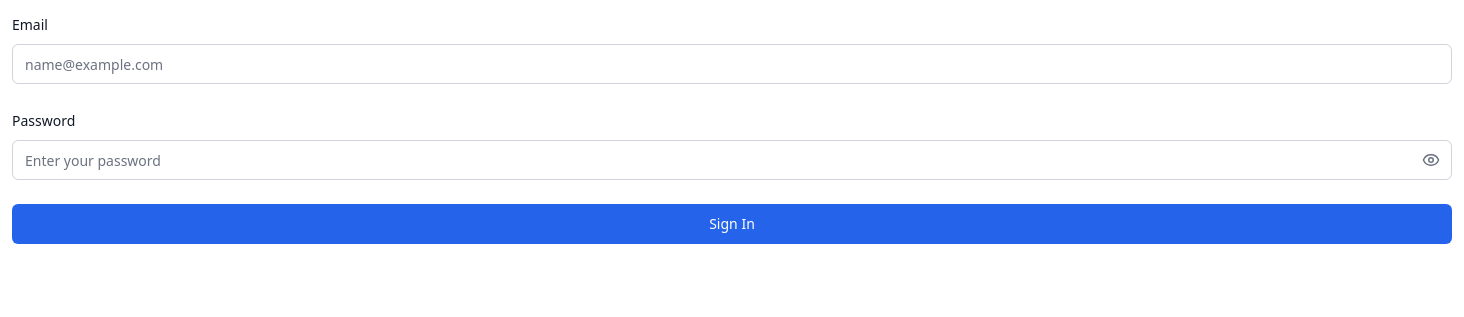
LoginForm › shows validation errors for invalid email
In the field labelled "Email": (732, 64) top-left (12, 44), bottom-right (1452, 84), type "invalid-email"
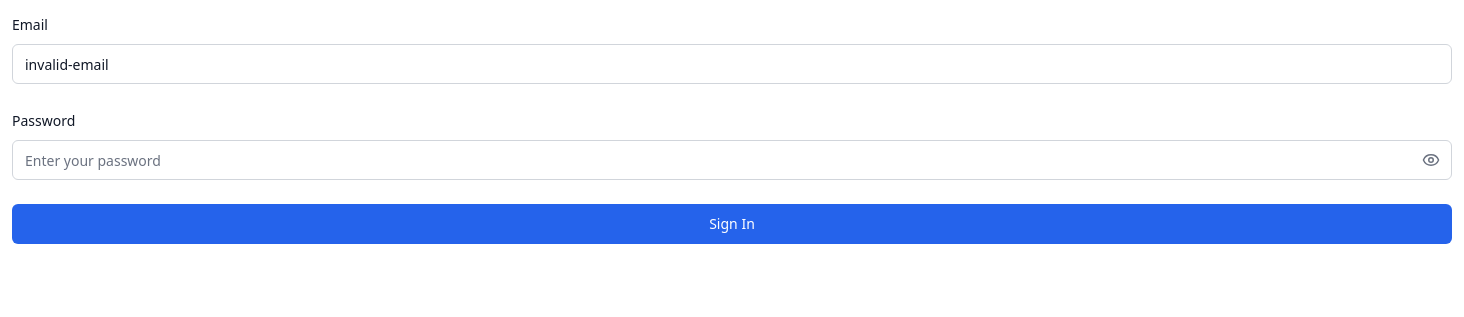
Submit the form from the button "Sign In", box top-left (12, 204), bottom-right (1452, 244)
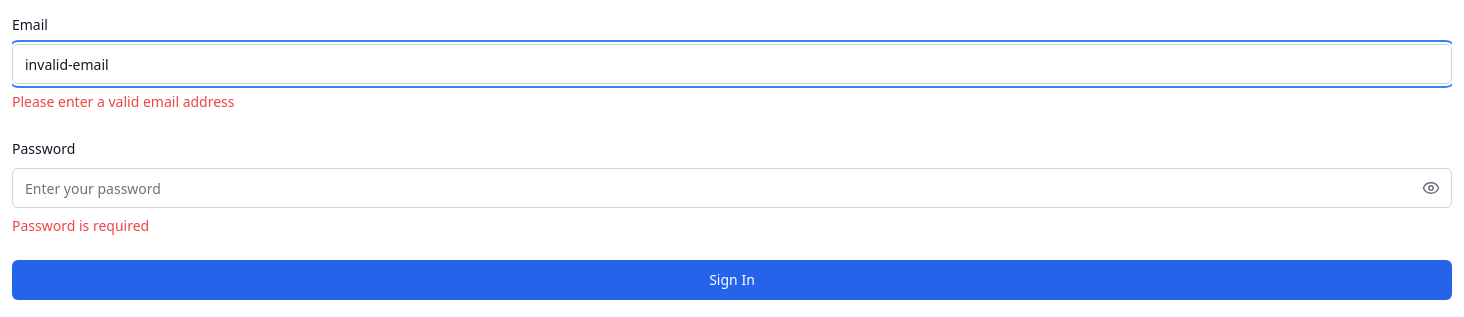
expect the text "Please enter a valid email address" is shown: met, box top-left (12, 92), bottom-right (234, 111)
